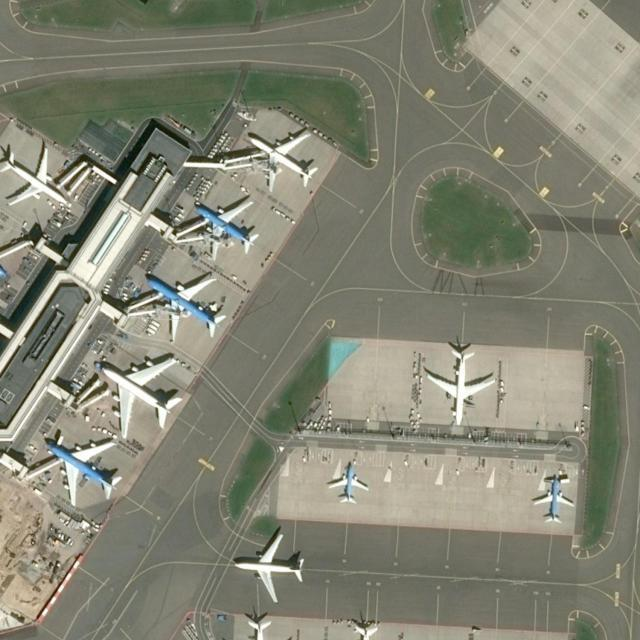Aircraft: (94, 351, 186, 437), (139, 269, 227, 341), (41, 432, 121, 506), (229, 527, 309, 601), (424, 342, 494, 425), (236, 124, 318, 190), (0, 139, 73, 207), (189, 198, 262, 259), (531, 472, 574, 526), (222, 609, 294, 640), (326, 460, 370, 506), (332, 614, 396, 640)
